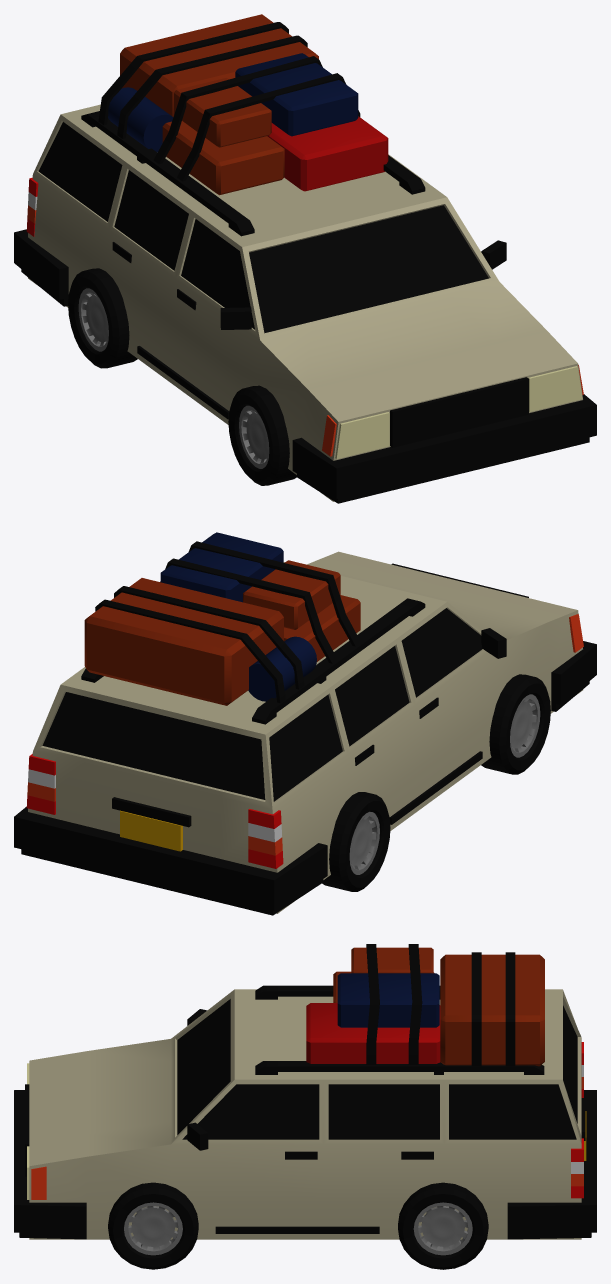
File: MainCar.fbx
The picture shows the model from 3 angles, top to bottom: view 1: azimuth 30°, elevation 25°; view 2: azimuth 150°, elevation 25°; view 3: azimuth 270°, elevation 25°; orthographic projection. The views are drawn at different scales.
Visible parts, largest first — view 1: body, RearWheels, Right_FrontWheel; view 2: body, Right_FrontWheel, RearWheels; view 3: body, RearWheels, Left_FrontWheel.
Boxes of the visible parts, <box> form: body: <box>14,14,596,503</box>; RearWheels: <box>68,268,137,368</box>; Right_FrontWheel: <box>228,385,296,485</box>; body: <box>14,532,596,915</box>; Right_FrontWheel: <box>481,674,550,774</box>; RearWheels: <box>322,792,390,891</box>; body: <box>14,944,596,1239</box>; RearWheels: <box>398,1182,488,1269</box>; Left_FrontWheel: <box>108,1182,198,1269</box>.
Size of the model in its own units: 229 by 205 by 449.
